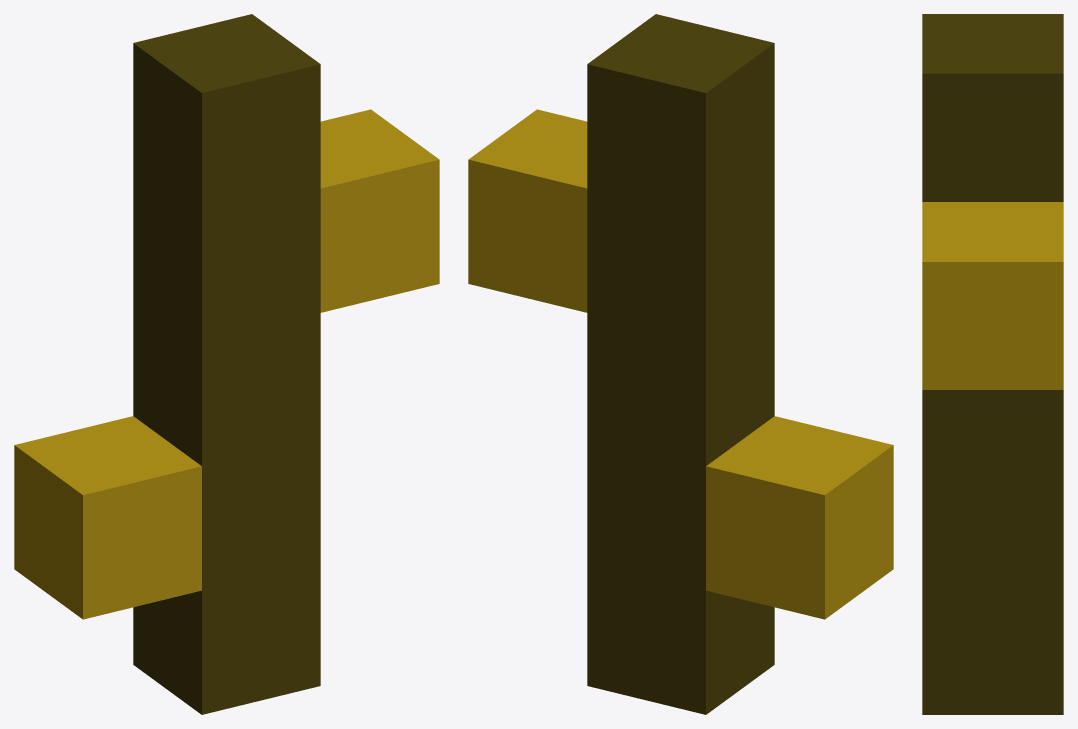
File: SM_Vegetable_2.fbx
The picture shows the model from 3 angles, left to right: view 1: azimuth 30°, elevation 25°; view 2: azimuth 150°, elevation 25°; view 3: azimuth 270°, elevation 25°; orthographic projection. The views are drawn at different scales.
Visible parts, largest first — view 1: SM_Vegetable_2; view 2: SM_Vegetable_2; view 3: SM_Vegetable_2.
Part boxes in pixels (bbox=[...]): SM_Vegetable_2: bbox=[14, 14, 439, 714]; SM_Vegetable_2: bbox=[468, 14, 893, 714]; SM_Vegetable_2: bbox=[922, 14, 1063, 714].
Size of the model in its own units: 0.3 by 0.5 by 0.1.
Materials: 1 (1 with a texture image).
